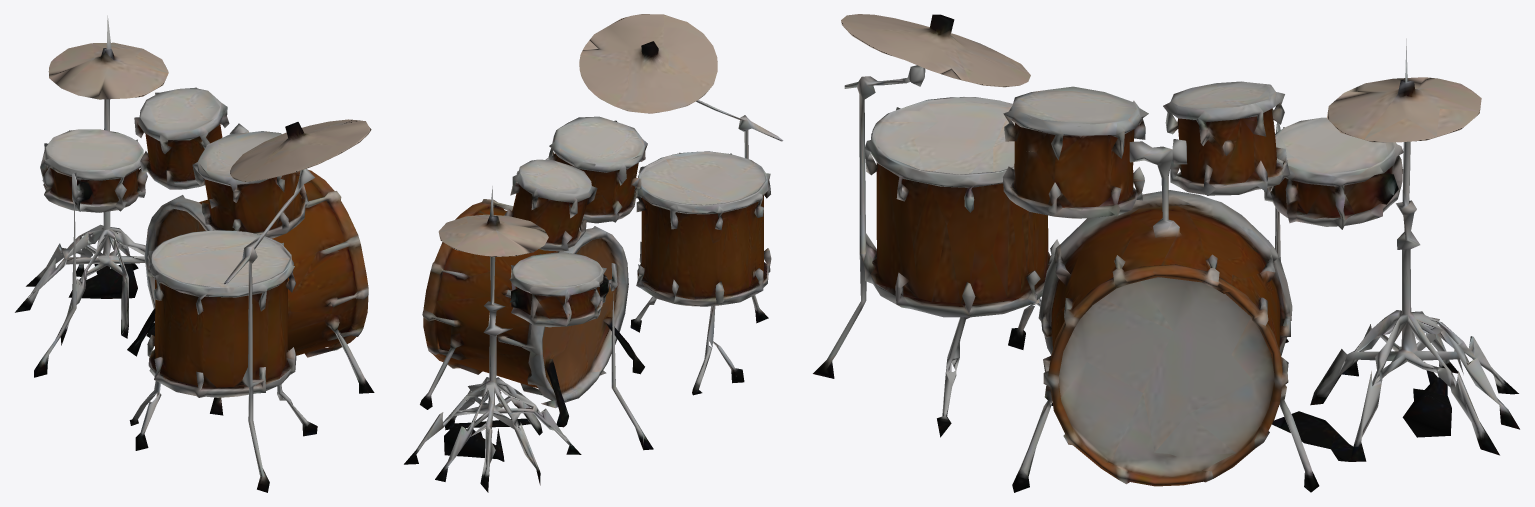
File: drumkit-v1.glb
The picture shows the model from 3 angles, left to right: view 1: azimuth 30°, elevation 25°; view 2: azimuth 150°, elevation 25°; view 3: azimuth 270°, elevation 25°; orthographic projection. The views are drawn at different scales.
Visible parts, largest first — view 1: prop__drumkit; view 2: prop__drumkit; view 3: prop__drumkit.
Part boxes in pixels (box(x1,y1,x2,y2)): prop__drumkit: box(15, 15, 374, 492); prop__drumkit: box(404, 14, 783, 492); prop__drumkit: box(813, 14, 1519, 492).
Size of the model in its own units: 0.9087 by 1.1 by 1.71.
1 material, 1 textured.
